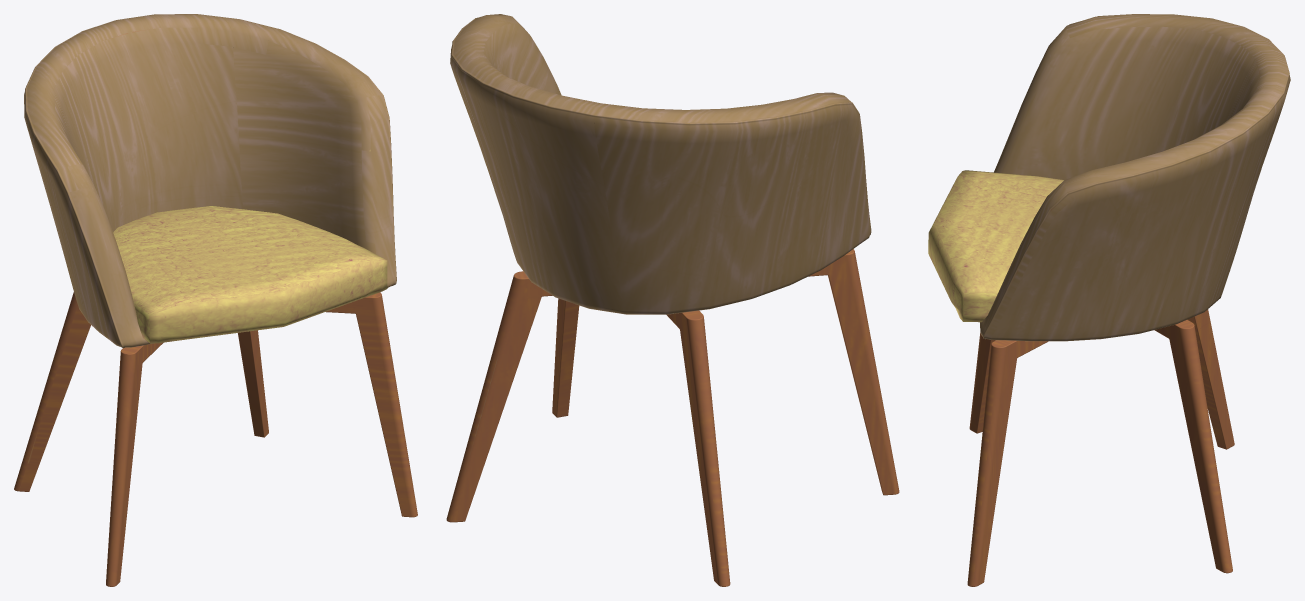
3 views of the same model, side by side, from view 1: azimuth 30°, elevation 25°; view 2: azimuth 150°, elevation 25°; view 3: azimuth 270°, elevation 25° (orthographic). The views are drawn at different scales.
Visible parts, largest first — view 1: Plane010.010_Mesh.001; view 2: Plane010.010_Mesh.001; view 3: Plane010.010_Mesh.001.
Boxes of the visible parts, <box> form: Plane010.010_Mesh.001: <box>14,14,417,586</box>; Plane010.010_Mesh.001: <box>446,14,899,586</box>; Plane010.010_Mesh.001: <box>928,14,1290,586</box>.
Bounding box in the file's own units: 0.3524 × 0.4341 × 0.3233.
1 material, 1 textured.
